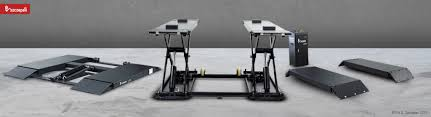Scissor Lift: (148, 15, 294, 103)
